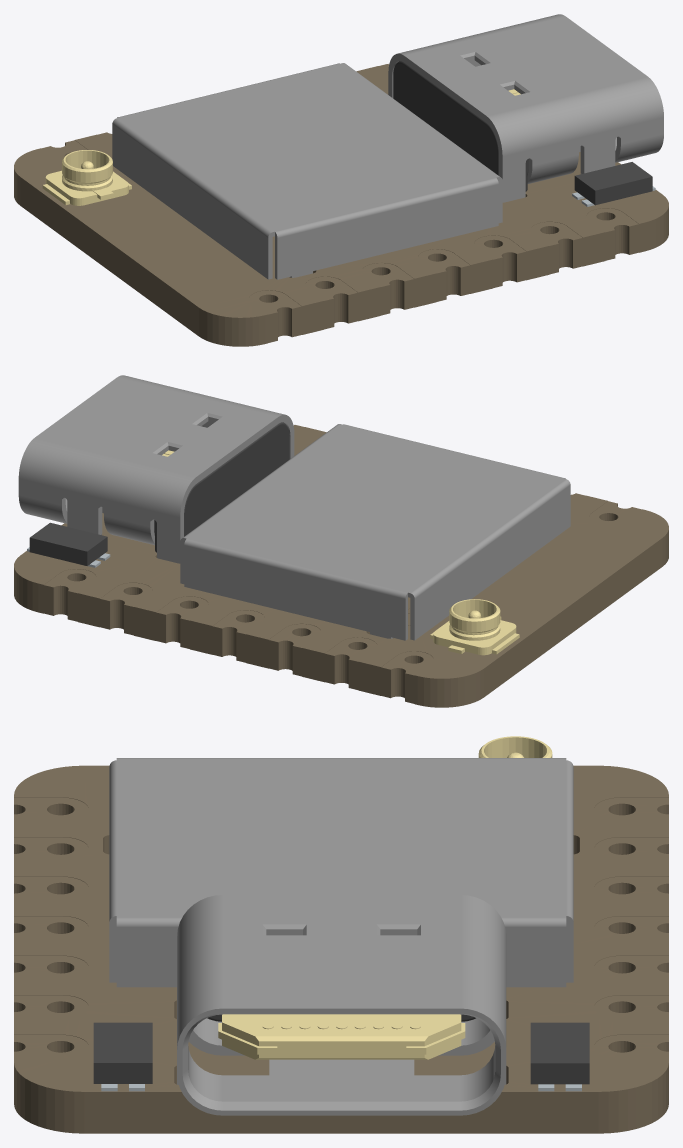
The model's file is xiao-esp32s3.glb.
3 views of the same model, one above another, from view 1: azimuth 30°, elevation 25°; view 2: azimuth 150°, elevation 25°; view 3: azimuth 270°, elevation 25° (orthographic). The views are drawn at different scales.
Visible parts, largest first — view 1: Shield:1, =>[0:1:1:34], CHAMFER9:1, CUT-EXTRUDE5:1, U.FL-R-SMT-1_10_ v1:1, Body:1_1; view 2: Shield:1, =>[0:1:1:34], CHAMFER9:1, CUT-EXTRUDE5:1, U.FL-R-SMT-1_10_ v1:1, Body:1; view 3: =>[0:1:1:34], Shield:1, CHAMFER9:1, MIRROR2:1, Body:1, Body:1_1, U.FL-R-SMT-1_10_ v1:1.
Boxes of the visible parts, box(x1,y1,x2,y2) form: Shield:1: box(112, 63, 502, 279); =>[0:1:1:34]: box(14, 64, 668, 346); CHAMFER9:1: box(388, 14, 663, 202); CUT-EXTRUDE5:1: box(393, 61, 528, 191); U.FL-R-SMT-1_10_ v1:1: box(42, 150, 131, 205); Body:1_1: box(574, 162, 652, 205); Shield:1: box(180, 424, 570, 640); =>[0:1:1:34]: box(14, 425, 668, 707); CHAMFER9:1: box(18, 375, 294, 563); CUT-EXTRUDE5:1: box(154, 422, 289, 552); U.FL-R-SMT-1_10_ v1:1: box(430, 599, 519, 655); Body:1: box(29, 522, 107, 565); =>[0:1:1:34]: box(14, 765, 668, 1133); Shield:1: box(109, 758, 573, 987); CHAMFER9:1: box(177, 895, 506, 1115); MIRROR2:1: box(218, 1014, 465, 1059); Body:1: box(530, 1022, 589, 1084); Body:1_1: box(93, 1022, 152, 1083); U.FL-R-SMT-1_10_ v1:1: box(478, 736, 552, 757).
Size of the model in its own units: 0.0225 by 0.00446 by 0.0178.
